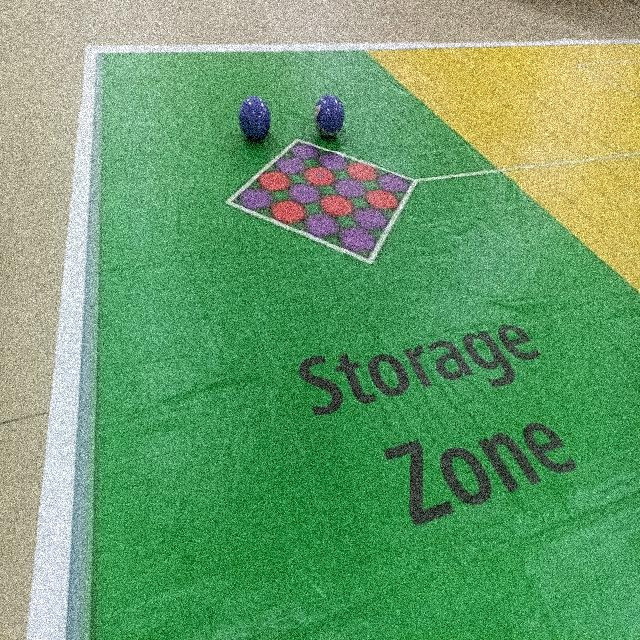purple_ball: (237, 94, 272, 143), (313, 94, 345, 138)
